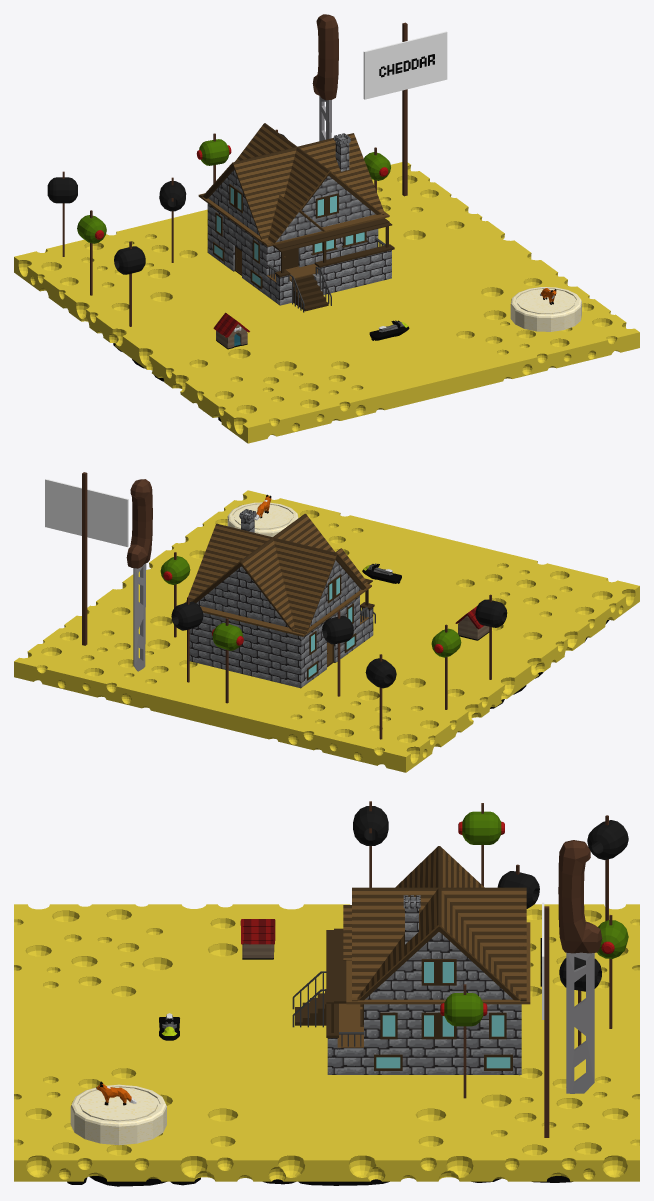
3 renders of one model, top to bottom at view 1: azimuth 30°, elevation 25°; view 2: azimuth 150°, elevation 25°; view 3: azimuth 270°, elevation 25°, orthographic. The views are drawn at different scales.
Visible parts, largest first — view 1: Cube.022, Cube.586, Cube.023, Cylinder.016, Cube.024, Sphere.017, Sphere.016, OBJRANDOM_DOGHOUSE, Sphere.020, Sphere.018, Sphere.022, Sphere.019; view 2: Cube.022, Cube.586, Cube.023, Cube.024, Cylinder.016, Sphere.020, Sphere.016, Sphere.022, Sphere.017, Sphere.021, Sphere.018, Sphere.019 (+2 smaller); view 3: Cube.022, Cube.586, Cube.024, Cylinder.016, Cube.023, Sphere.019, Sphere.016, Sphere.018, OBJRANDOM_DOGHOUSE, Curve.014, Sphere.017, Sphere.022 (+2 smaller).
Boxes of the visible parts, x1,y1,x2,y2 form: Cube.022: (14, 162, 639, 443); Cube.586: (198, 123, 394, 312); Cube.023: (363, 22, 447, 196); Cylinder.016: (510, 287, 581, 331); Cube.024: (312, 14, 338, 141); Sphere.017: (114, 241, 145, 326); Sphere.016: (47, 171, 77, 256); OBJRANDOM_DOGHOUSE: (213, 312, 249, 349); Sphere.020: (159, 177, 186, 262); Sphere.018: (77, 210, 106, 295); Sphere.022: (196, 133, 231, 183); Sphere.019: (364, 147, 390, 191); Cube.022: (14, 490, 639, 772); Cube.586: (184, 509, 375, 688); Cube.023: (45, 472, 128, 645); Cube.024: (126, 479, 152, 671); Cylinder.016: (227, 502, 298, 536); Sphere.020: (322, 611, 353, 696); Sphere.016: (365, 654, 396, 739); Sphere.022: (212, 618, 243, 703); Sphere.017: (475, 594, 507, 679); Sphere.021: (171, 597, 203, 682); Sphere.018: (431, 624, 461, 709); Sphere.019: (160, 552, 190, 637); Cube.022: (14, 904, 639, 1181); Cube.586: (292, 846, 530, 1074); Cube.024: (558, 840, 602, 1093); Cylinder.016: (70, 1084, 166, 1145); Cube.023: (540, 902, 549, 1137); Sphere.019: (440, 984, 487, 1098); Sphere.016: (587, 815, 628, 920); Sphere.018: (458, 803, 504, 886); OBJRANDOM_DOGHOUSE: (240, 919, 275, 959); Curve.014: (67, 1176, 572, 1186); Sphere.017: (353, 801, 388, 887); Sphere.022: (597, 915, 628, 1028).
Size of the model in its own units: 3917 by 1980 by 4000.
31 materials, 4 textured.
